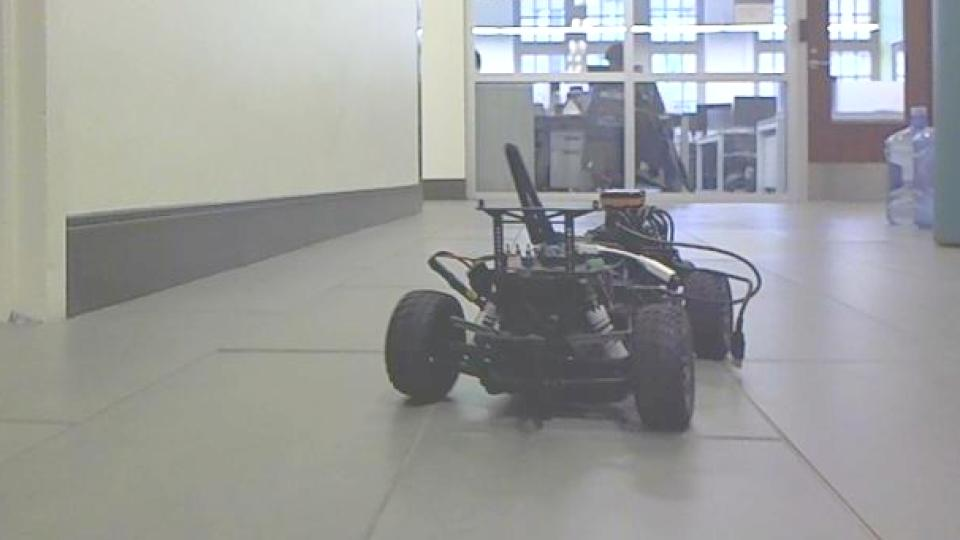car: (382, 140, 765, 435)
